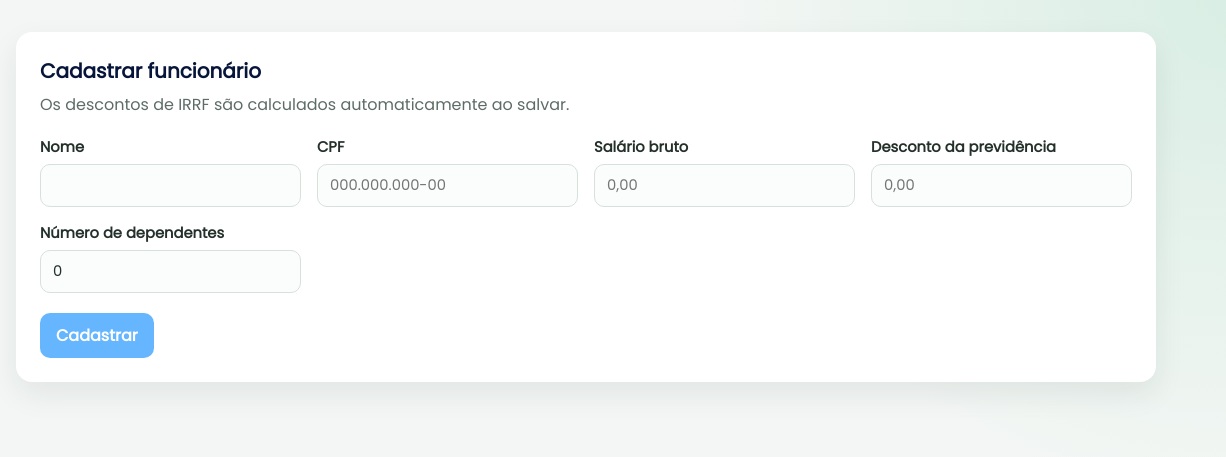
EmployeeForm › exibe erros de validação ao enviar o formulário vazio
Click the button "Cadastrar".
click(97, 336)  # box [40,313,154,358]
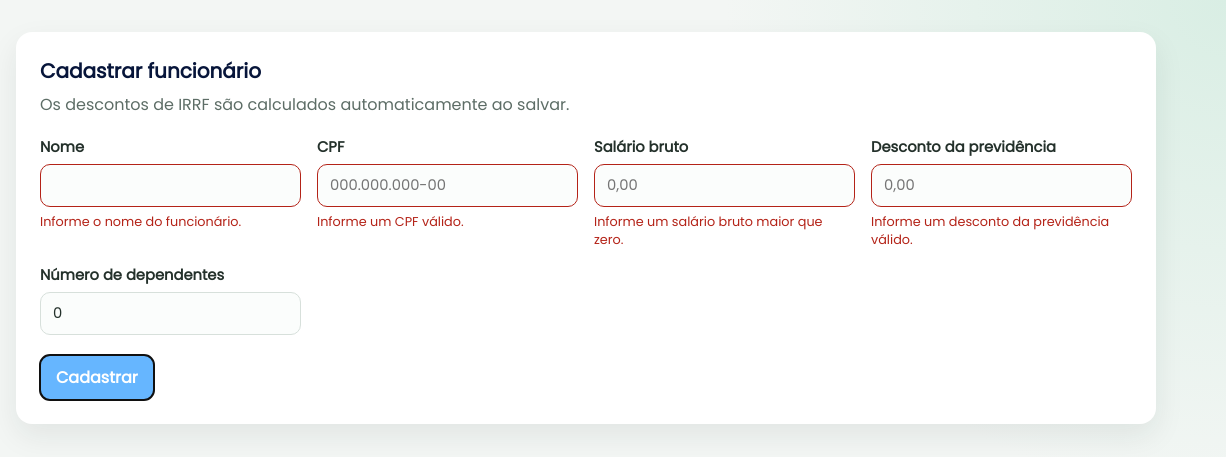
Now the text "Informe o nome do funcionário." is shown, box [40,213,241,230]
Now the text "Informe um CPF válido." is shown, box [317,213,464,230]
Now the text "Informe um salário bruto maior que zero." is shown, box [594,213,855,249]
